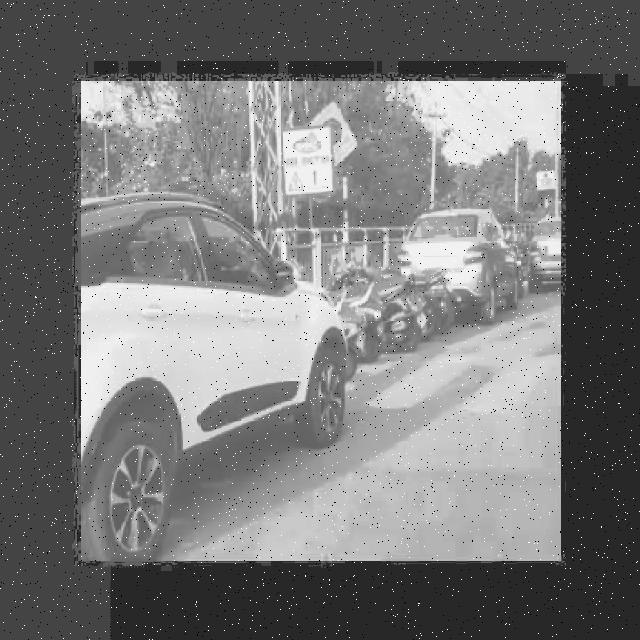Car: (80, 185, 371, 559), (389, 204, 526, 324), (526, 198, 562, 298)
